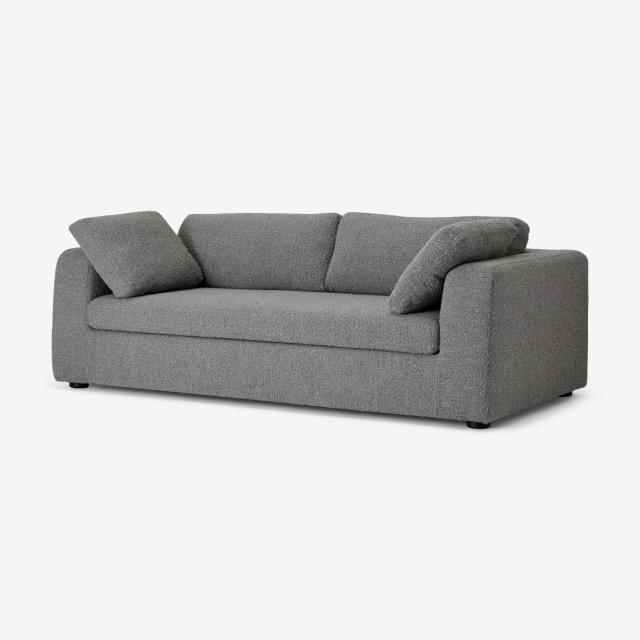Soffa: (44, 204, 594, 437)
